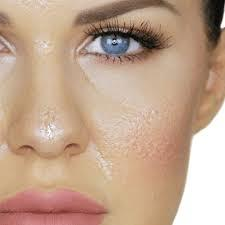Oily-Skin: (9, 26, 213, 205)
